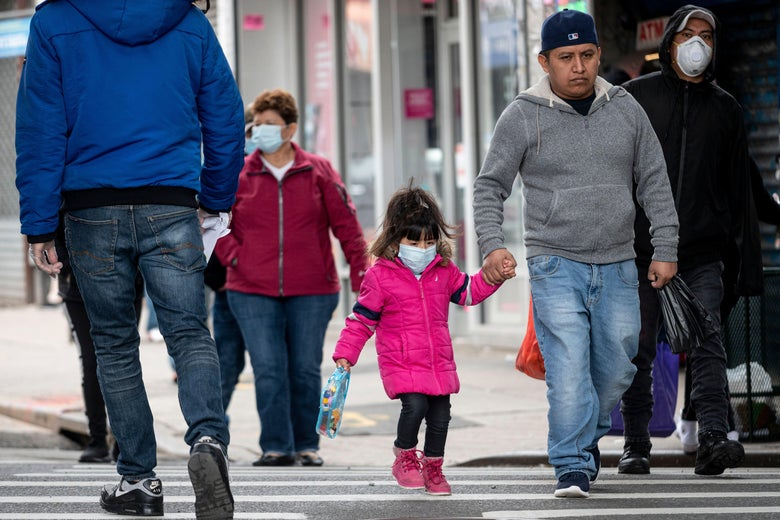with_mask: (679, 26, 713, 74), (402, 235, 436, 268), (251, 117, 283, 150)
without_mask: (555, 47, 598, 94)
